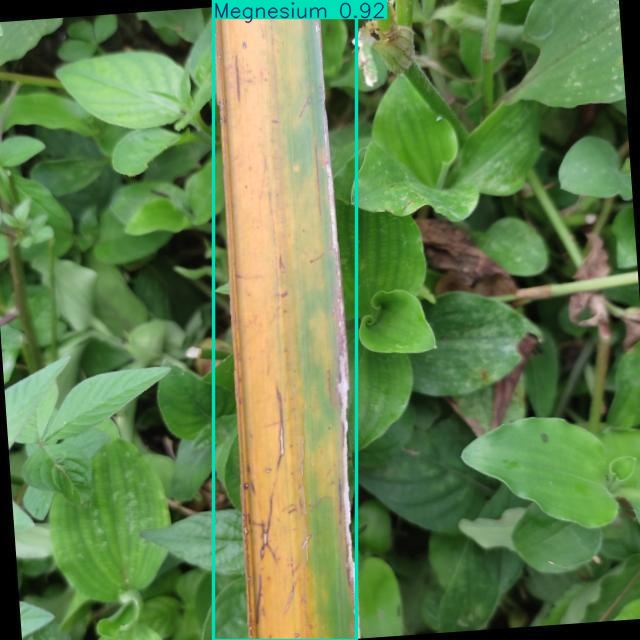Megnesium: (213, 0, 356, 640)
